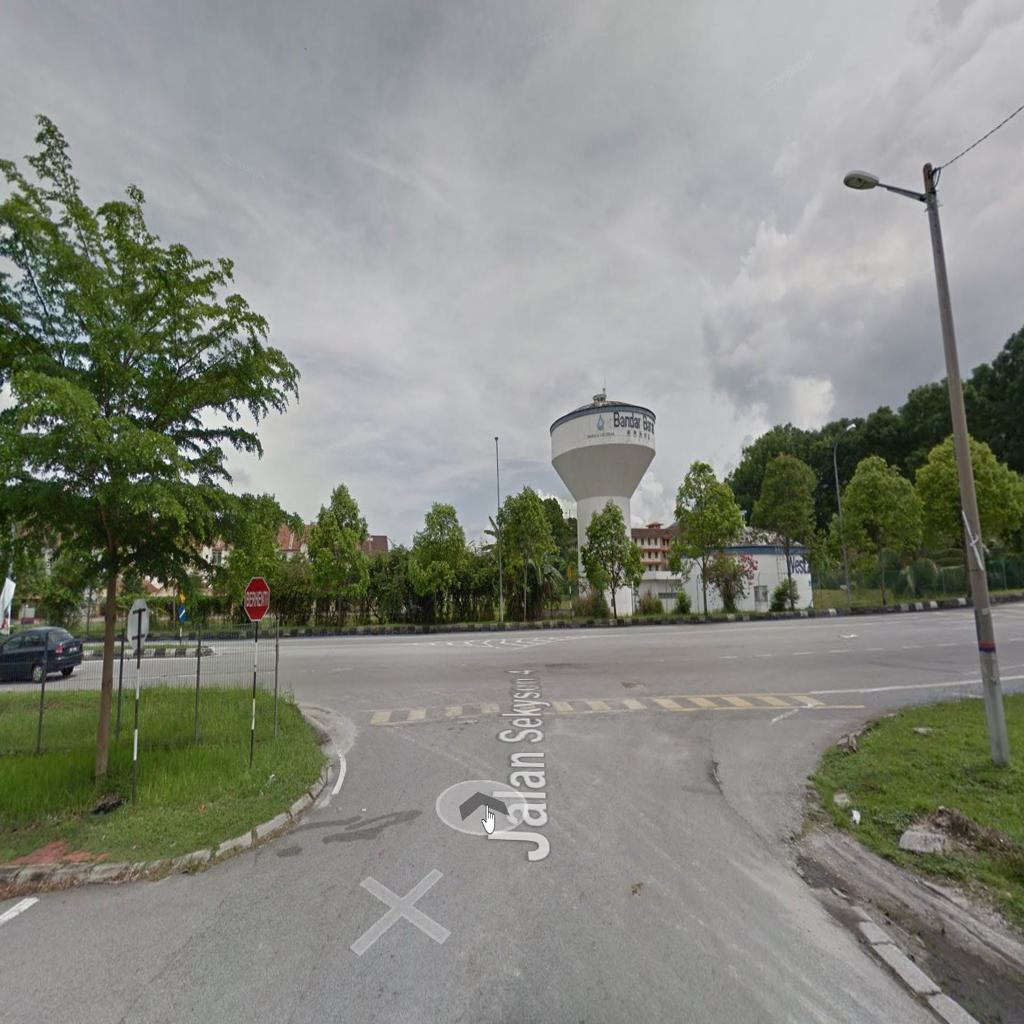Junction: (730, 586, 1020, 877), (119, 594, 371, 805)
